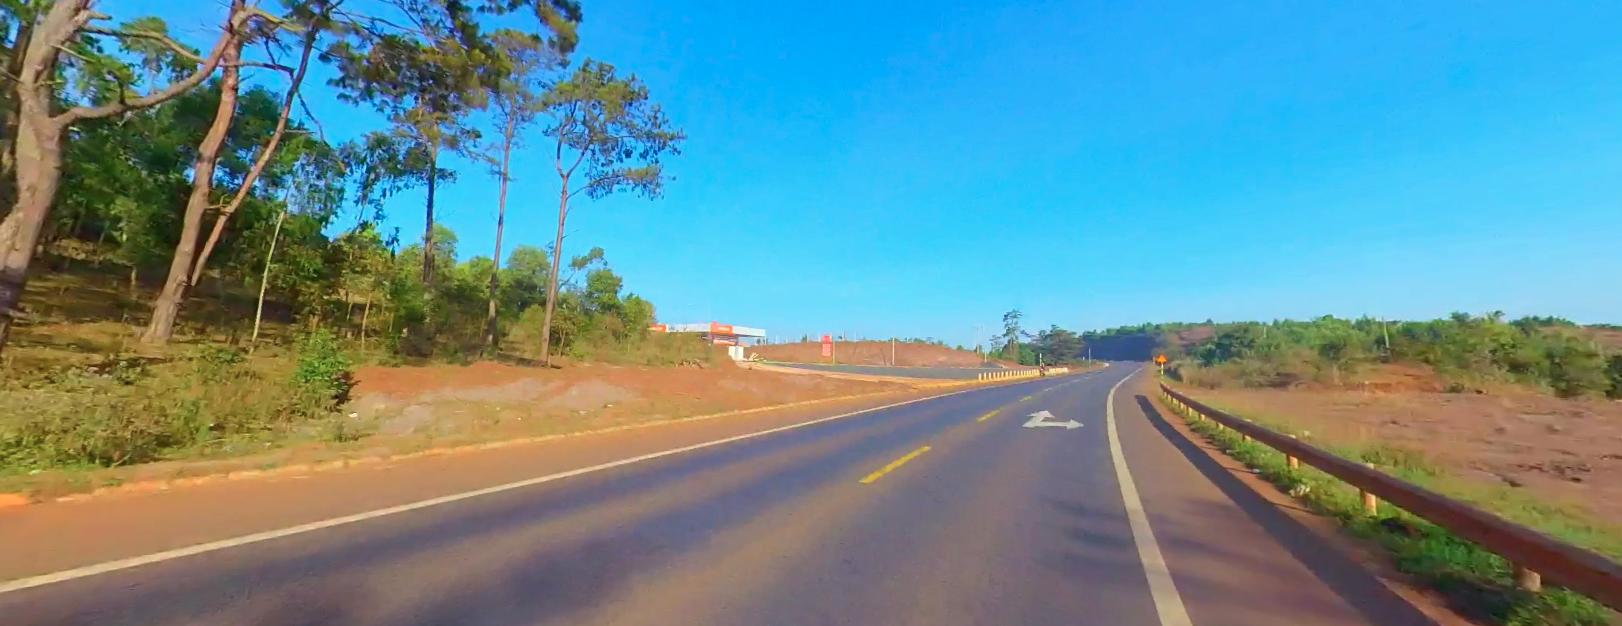Nguy hiem: (1155, 350, 1167, 360)
